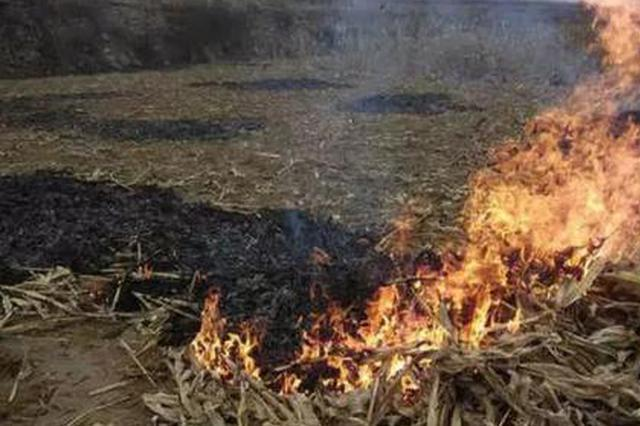fire: (460, 2, 634, 275), (275, 264, 502, 391), (187, 284, 281, 391)
